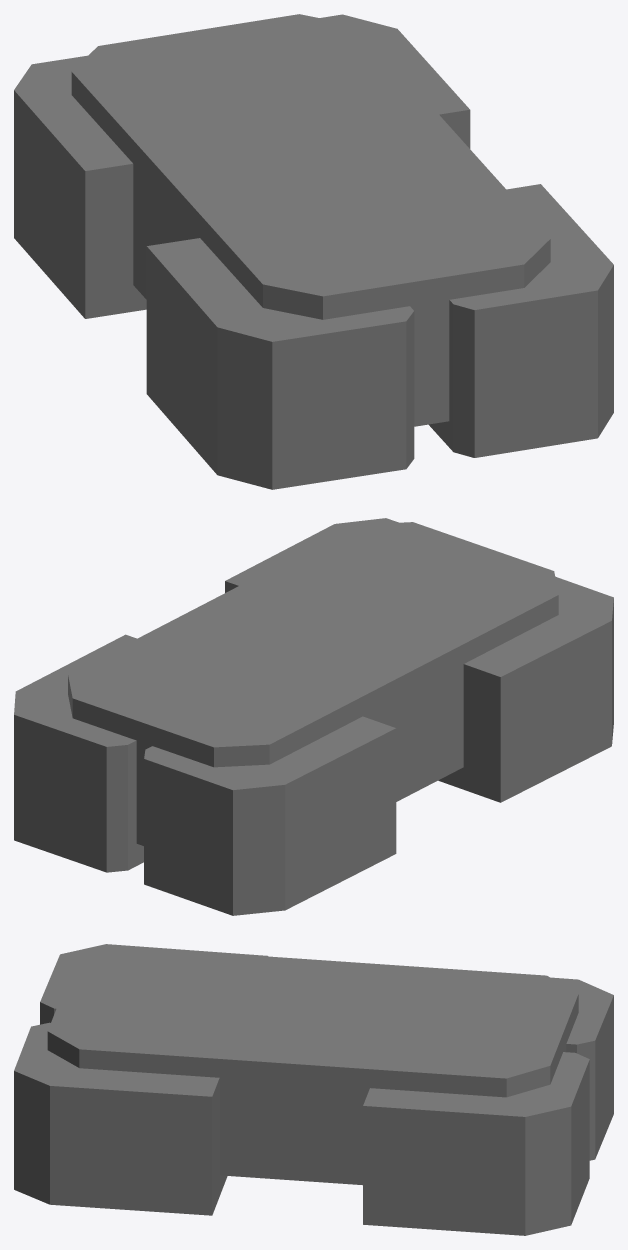
Rendered from Isla.obj.
The picture shows the model from 3 angles, top to bottom: view 1: azimuth 30°, elevation 25°; view 2: azimuth 150°, elevation 25°; view 3: azimuth 270°, elevation 25°; orthographic projection. The views are drawn at different scales.
Parts seen in each view (by area): view 1: Isla:pCube4; view 2: Isla:pCube4; view 3: Isla:pCube4.
Part boxes in pixels (<box>): Isla:pCube4: <box>14,14,613,489</box>; Isla:pCube4: <box>14,518,613,915</box>; Isla:pCube4: <box>14,944,613,1235</box>.
Size of the model in its own units: 5.3 by 1.97 by 7.77.
1 material, 1 textured.
